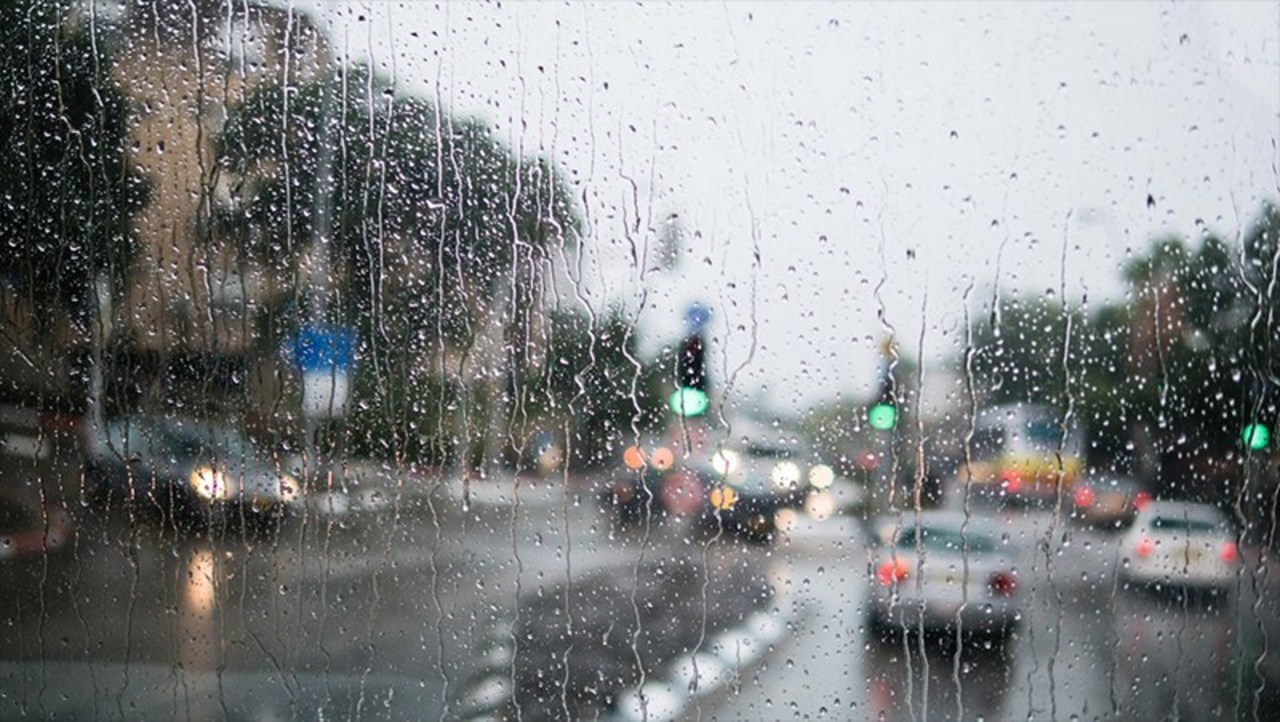bus: (959, 412, 1079, 507)
car: (866, 513, 1027, 641), (123, 423, 308, 534), (1119, 500, 1250, 602), (1062, 470, 1152, 531)
